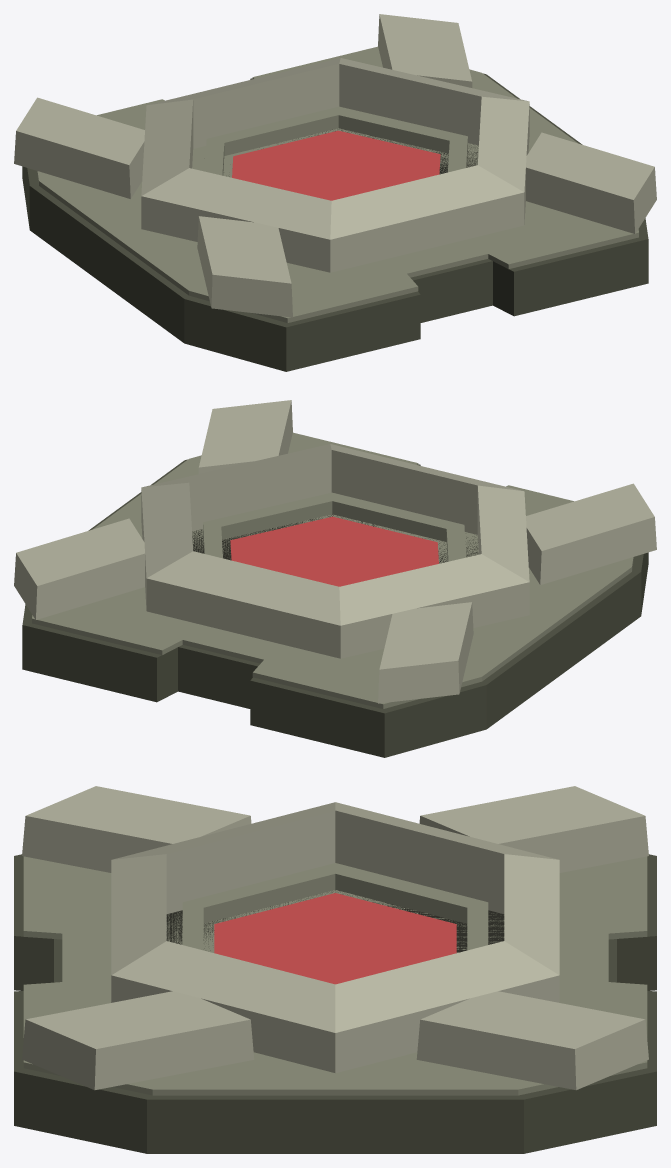
File: vge_mech_grav_tether.obj
3 renders of one model, top to bottom at view 1: azimuth 30°, elevation 25°; view 2: azimuth 150°, elevation 25°; view 3: azimuth 270°, elevation 25°, orthographic. The views are drawn at different scales.
Visible parts, largest first — view 1: vge_mech_grav_tether_0, vge_mech_grav_tether_1, vge_mech_grav_tether_10, vge_mech_grav_tether_9, vge_mech_grav_tether_19, vge_mech_grav_tether_4, vge_mech_grav_tether_3, vge_mech_grav_tether_2, vge_mech_grav_tether_7, vge_mech_grav_tether_6, vge_mech_grav_tether_5, vge_mech_grav_tether_11 (+5 smaller); view 2: vge_mech_grav_tether_0, vge_mech_grav_tether_1, vge_mech_grav_tether_7, vge_mech_grav_tether_8, vge_mech_grav_tether_19, vge_mech_grav_tether_5, vge_mech_grav_tether_2, vge_mech_grav_tether_3, vge_mech_grav_tether_10, vge_mech_grav_tether_11, vge_mech_grav_tether_4, vge_mech_grav_tether_6 (+6 smaller); view 3: vge_mech_grav_tether_0, vge_mech_grav_tether_1, vge_mech_grav_tether_4, vge_mech_grav_tether_5, vge_mech_grav_tether_19, vge_mech_grav_tether_6, vge_mech_grav_tether_11, vge_mech_grav_tether_2, vge_mech_grav_tether_3, vge_mech_grav_tether_8, vge_mech_grav_tether_9, vge_mech_grav_tether_7 (+6 smaller).
Boxes of the visible parts, x1,y1,x2,y2 form: vge_mech_grav_tether_0: [22, 73, 648, 371]; vge_mech_grav_tether_1: [37, 46, 638, 322]; vge_mech_grav_tether_10: [330, 165, 524, 272]; vge_mech_grav_tether_9: [141, 168, 331, 272]; vge_mech_grav_tether_19: [232, 130, 440, 200]; vge_mech_grav_tether_4: [526, 132, 656, 233]; vge_mech_grav_tether_3: [14, 97, 144, 198]; vge_mech_grav_tether_2: [197, 216, 292, 317]; vge_mech_grav_tether_7: [148, 58, 340, 148]; vge_mech_grav_tether_6: [339, 58, 527, 145]; vge_mech_grav_tether_5: [378, 14, 472, 87]; vge_mech_grav_tether_11: [477, 96, 529, 224]; vge_mech_grav_tether_0: [22, 459, 648, 757]; vge_mech_grav_tether_1: [32, 432, 633, 708]; vge_mech_grav_tether_7: [146, 551, 340, 658]; vge_mech_grav_tether_8: [339, 554, 529, 658]; vge_mech_grav_tether_19: [230, 516, 438, 586]; vge_mech_grav_tether_5: [14, 518, 144, 619]; vge_mech_grav_tether_2: [526, 483, 656, 584]; vge_mech_grav_tether_3: [378, 602, 473, 703]; vge_mech_grav_tether_10: [330, 444, 522, 534]; vge_mech_grav_tether_11: [143, 444, 331, 531]; vge_mech_grav_tether_4: [198, 400, 292, 473]; vge_mech_grav_tether_6: [141, 482, 193, 610]; vge_mech_grav_tether_0: [14, 854, 656, 1153]; vge_mech_grav_tether_1: [23, 856, 647, 1095]; vge_mech_grav_tether_4: [22, 991, 254, 1090]; vge_mech_grav_tether_5: [416, 991, 648, 1090]; vge_mech_grav_tether_19: [214, 893, 456, 984]; vge_mech_grav_tether_6: [335, 941, 559, 1073]; vge_mech_grav_tether_11: [111, 941, 335, 1072]; vge_mech_grav_tether_2: [22, 786, 251, 872]; vge_mech_grav_tether_3: [419, 786, 648, 872]; vge_mech_grav_tether_8: [335, 802, 557, 913]; vge_mech_grav_tether_9: [113, 802, 335, 913]; vge_mech_grav_tether_7: [504, 854, 559, 974].
Bounding box in the file's own units: 4.9 × 1.01 × 4.9.
